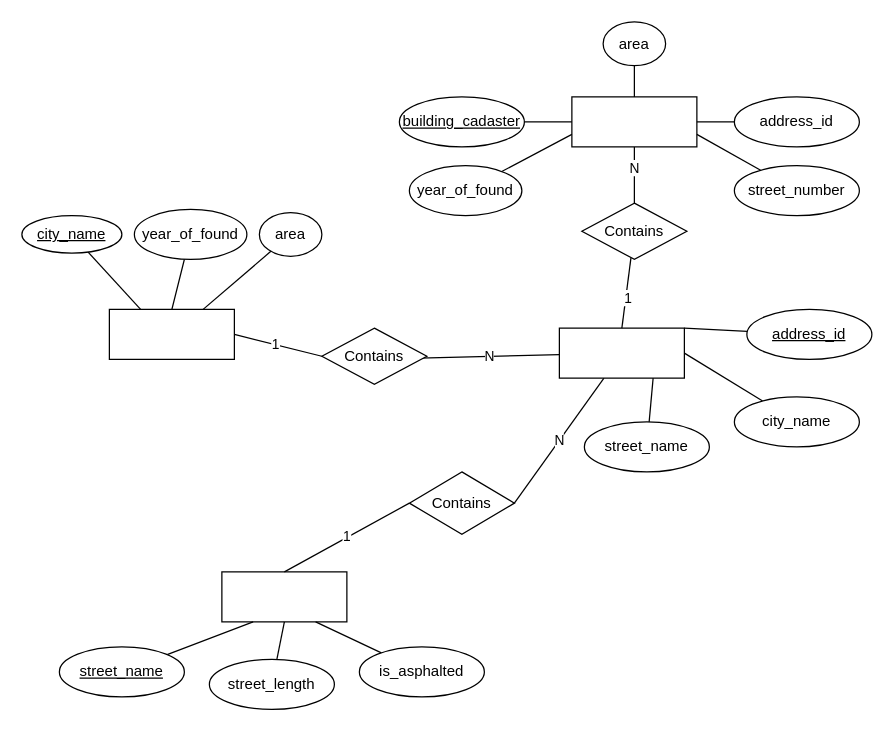
The diagram is 894 pixels wide and 731 high, and some of its shapes have lost their labels. Here are the shapes that lost their labels. From the top down, the centre of each, then its label:
At [634,121]: "building".
At [171,333]: "city".
At [621,352]: "address".
At [284,596]: "street".
